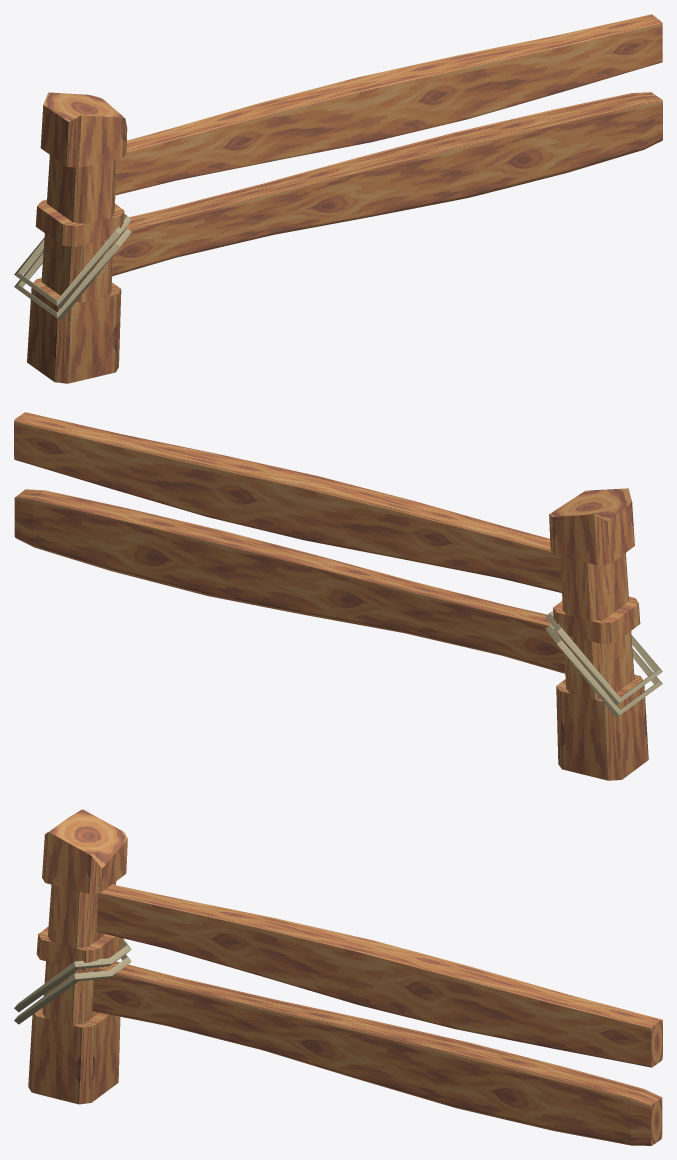
Rendered from fence_w_300_c.glb.
The picture shows the model from 3 angles, top to bottom: view 1: azimuth 30°, elevation 25°; view 2: azimuth 150°, elevation 25°; view 3: azimuth 330°, elevation 25°; orthographic projection.
Parts seen in each view (by area): view 1: fence_w_300_c; view 2: fence_w_300_c; view 3: fence_w_300_c.
Boxes of the visible parts, x1,y1,x2,y2 form: fence_w_300_c: (14,14,662,383); fence_w_300_c: (14,412,662,780); fence_w_300_c: (14,809,662,1145).
Bounding box in the file's own units: 3.2 × 1.29 × 0.3989.
Materials: 1 (1 with a texture image).
